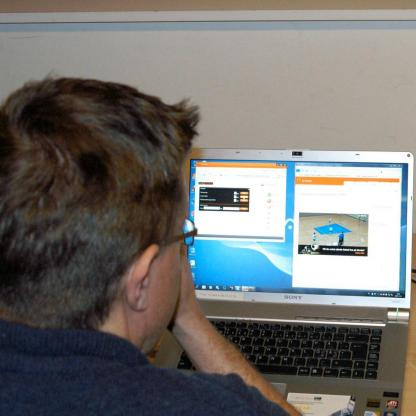board: (167, 135, 416, 416)
